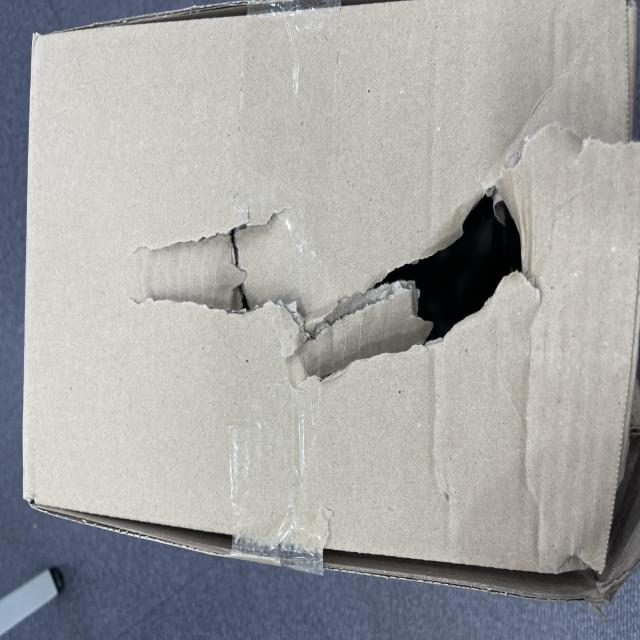damaged: (205, 495, 347, 640)
